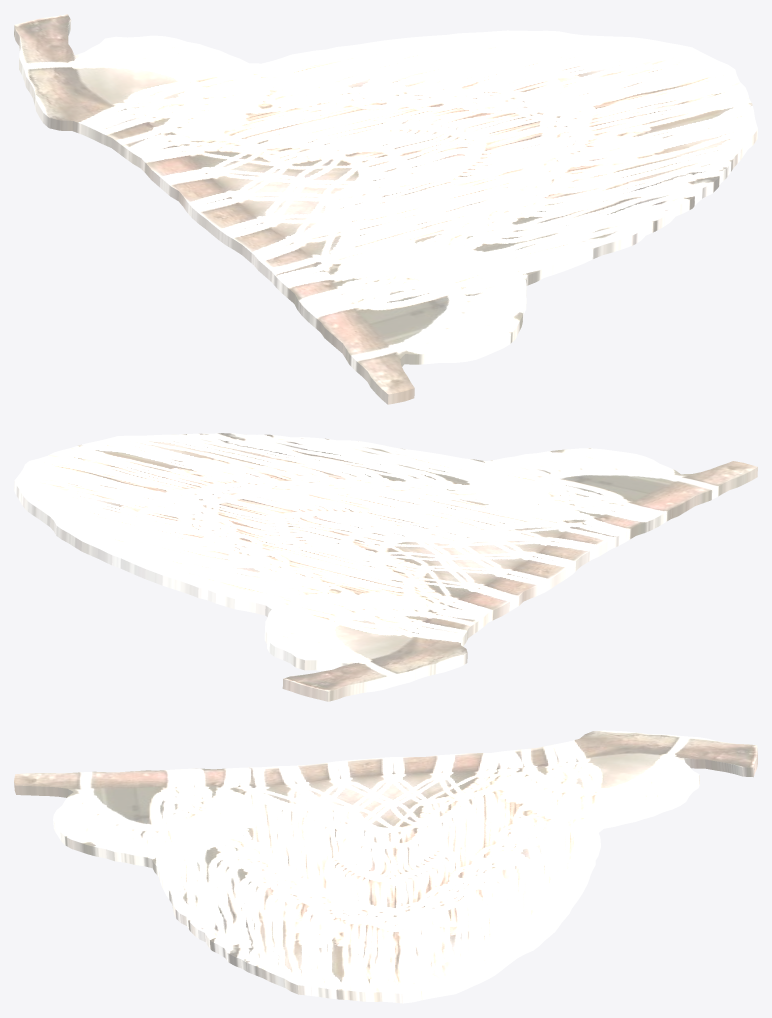
The picture shows the model from 3 angles, top to bottom: view 1: azimuth 30°, elevation 25°; view 2: azimuth 150°, elevation 25°; view 3: azimuth 270°, elevation 25°; orthographic projection. The views are drawn at different scales.
Size of the model in its own units: 0.6371 by 0.0677 by 0.7988.
1 material, 1 textured.
